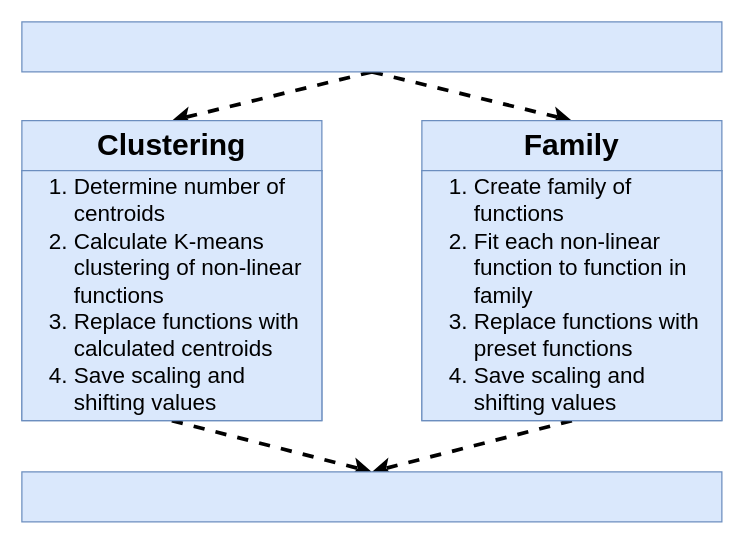
This 744x544 diagram has some shape labels left out. The shapes that lost their labels are listed below. From the top down, each one's box as (x1, y1, x2, y2) in pixels, then its label:
(21, 21, 722, 72): Non-Linear Functions
(21, 471, 722, 522): Model Re-Training
